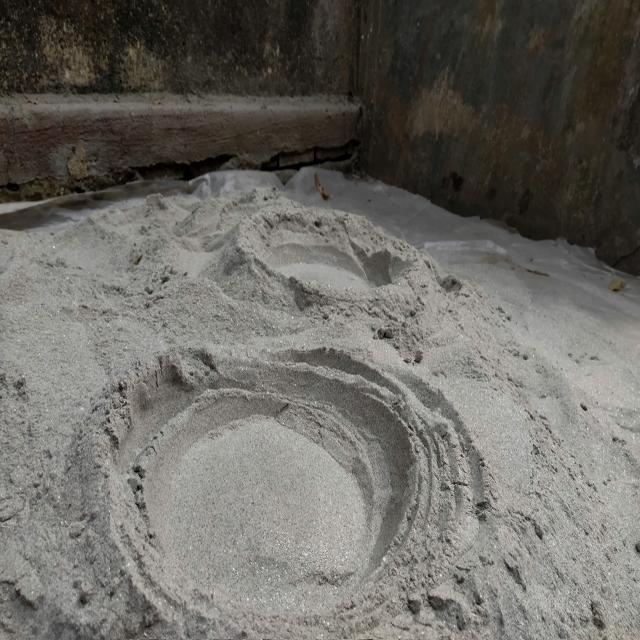C20: (110, 352, 436, 639)
